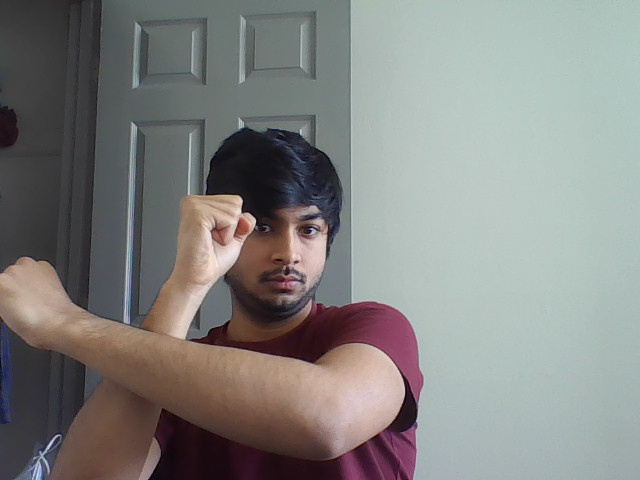cancel: (4, 186, 262, 472)
